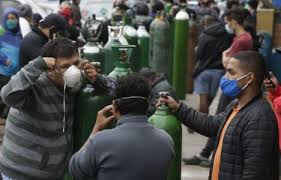mask: (110, 81, 148, 121), (51, 48, 84, 89), (219, 57, 250, 98), (222, 14, 239, 34), (3, 11, 18, 30)
